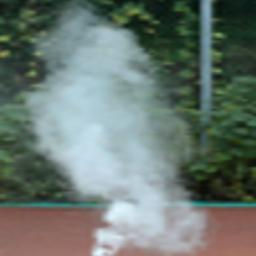smoke: (25, 0, 205, 255)
